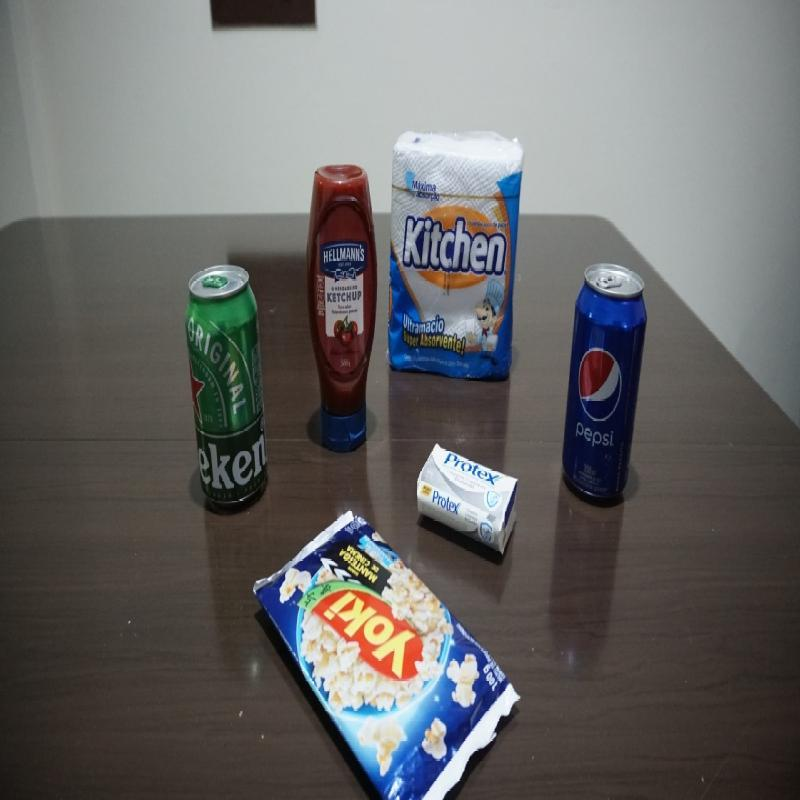Beer can: (183, 262, 270, 518)
Ketchup: (307, 157, 380, 450)
Napkin: (385, 130, 527, 378)
Popcorn: (252, 512, 522, 800)
Soap: (415, 442, 520, 563)
Soda can: (560, 262, 649, 508)
